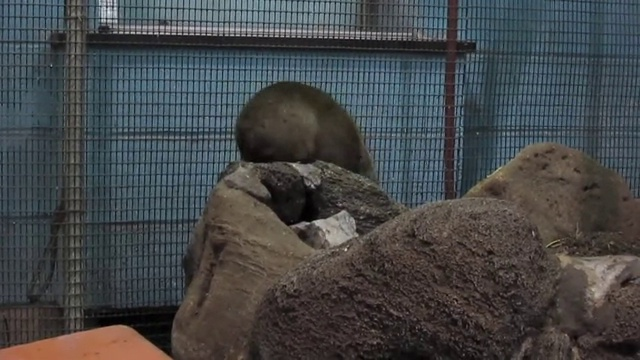Rock Hyrex: (234, 79, 382, 188)
